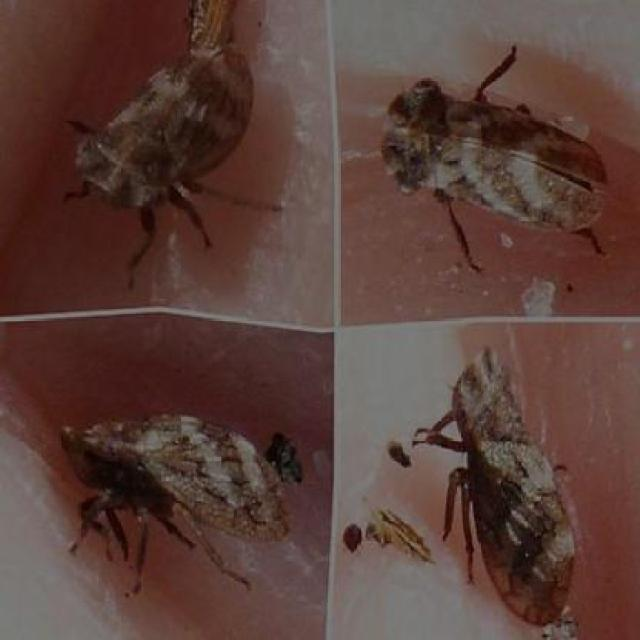brown-planthopper: (55, 401, 298, 599), (371, 70, 609, 244), (439, 342, 578, 628), (67, 32, 258, 235)
